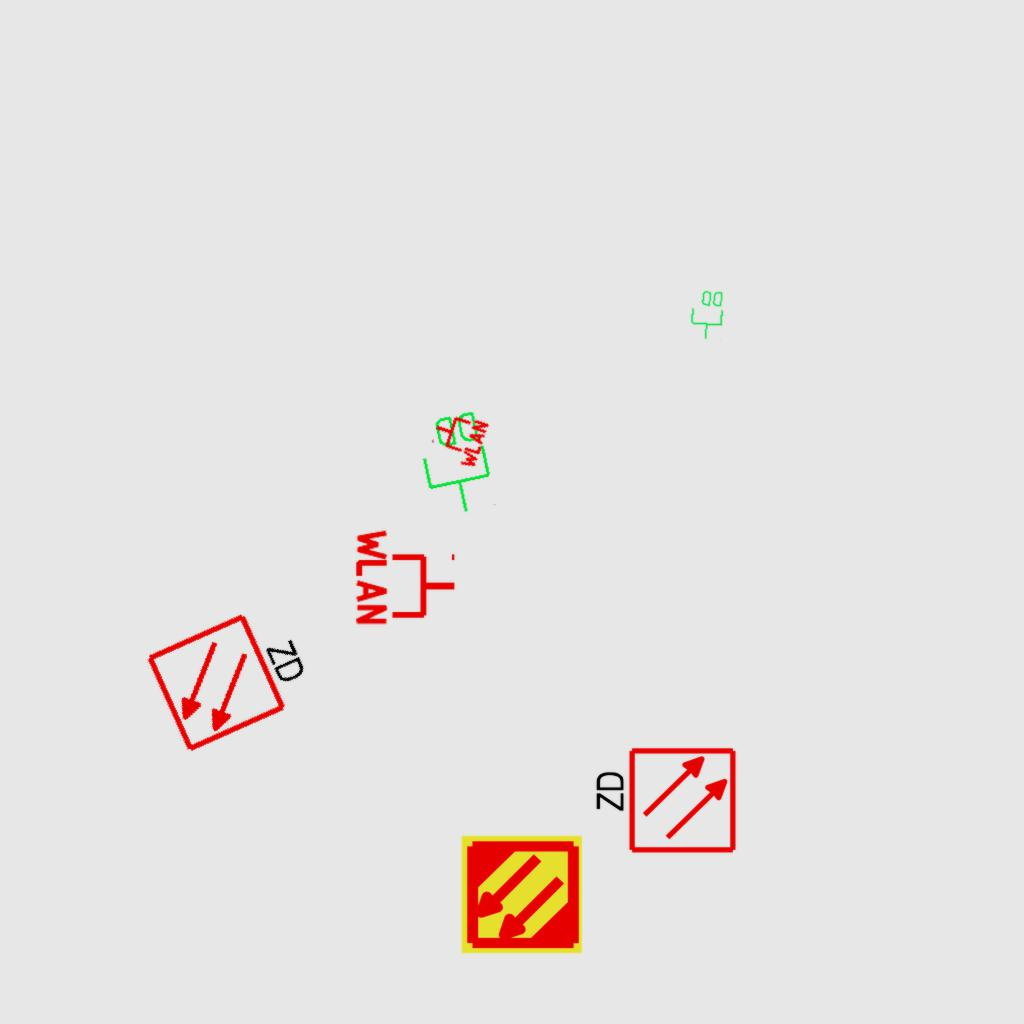ASR_Ansaugrauchmelder: (459, 832, 584, 957)
Datenanschluss_zweifach: (412, 405, 501, 522), (688, 288, 727, 342)
WLAN: (354, 525, 459, 629), (425, 406, 491, 472)
ZD_Melder_in_Zwischendecke_mit_Revisionsoeffnung_mind_40_x_40_cm: (141, 591, 325, 756), (589, 745, 738, 859)
